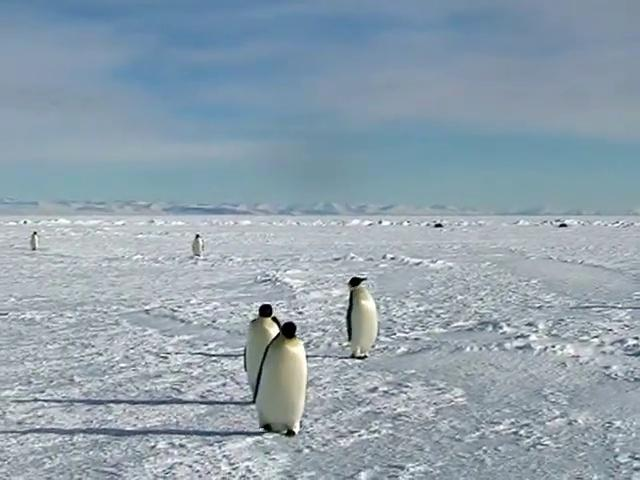animal: (346, 276, 377, 357)
